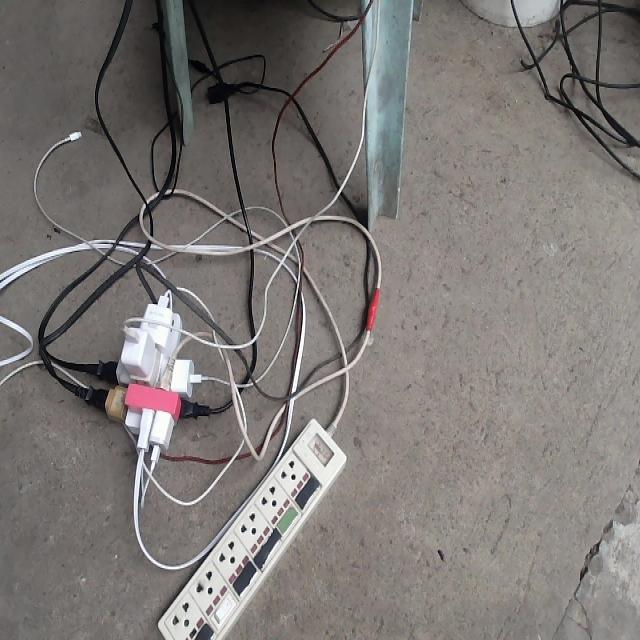-: (82, 287, 205, 464)
